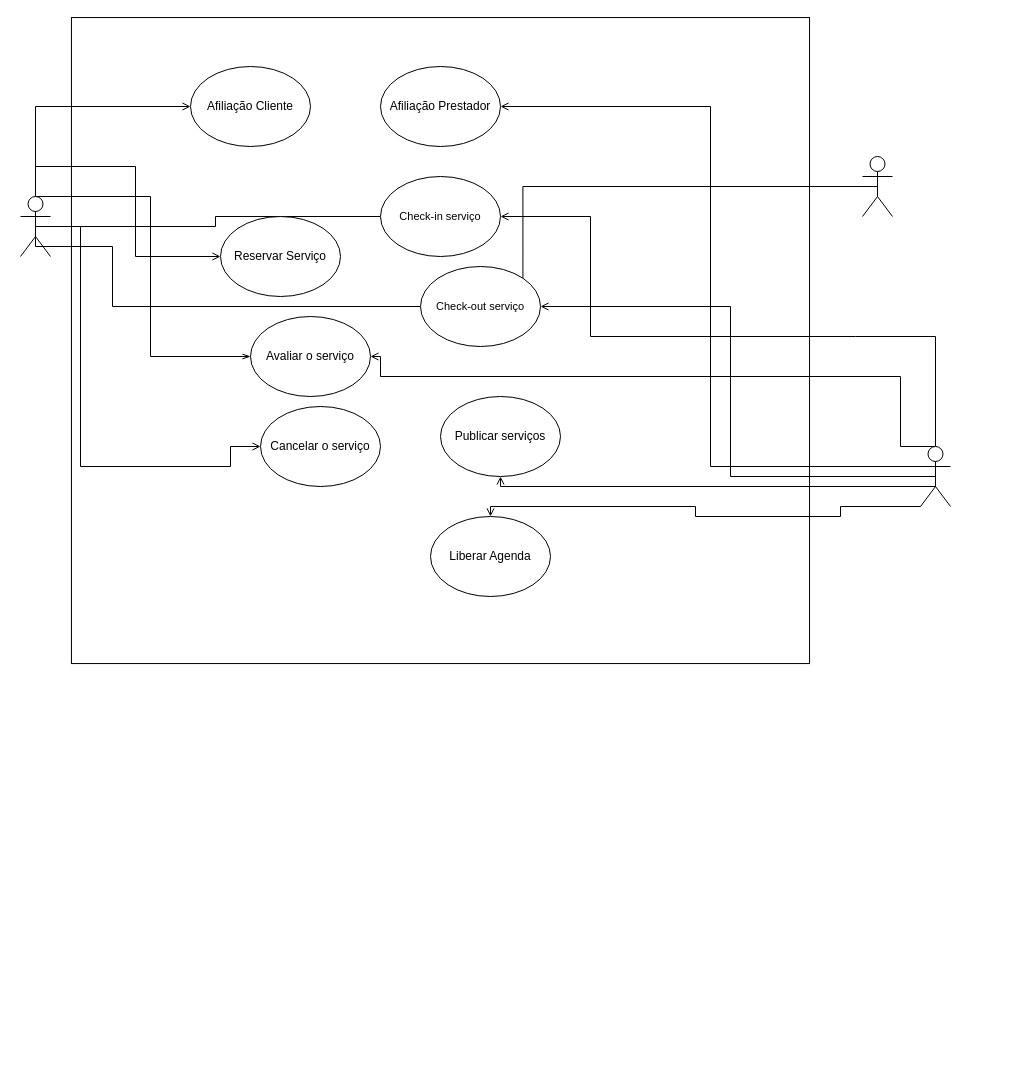
Some shapes in this 1030 by 1082 pixel diagram are drawn without their labels. Here are the shapes that lost their labels. From the top down, the centre of each, then its label:
pixel 877 186: Instituição Financeira
pixel 35 226: Cliente
pixel 935 476: Prestador de serviço estético
